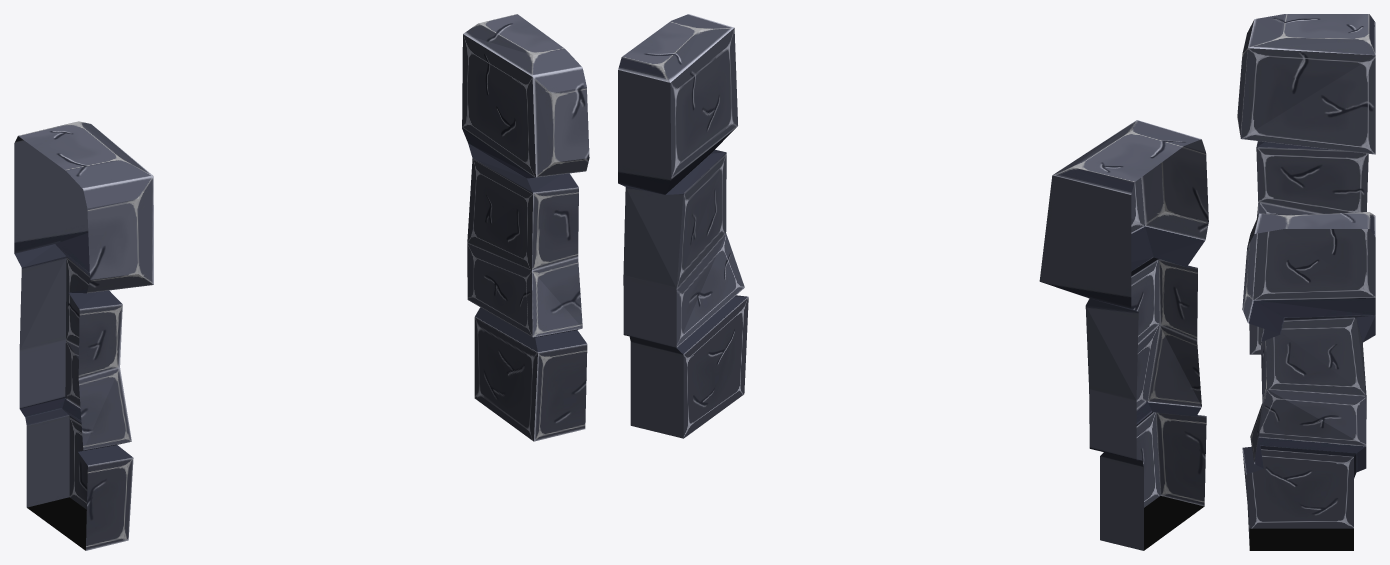
File: Doorway Pillars.FBX
The picture shows the model from 3 angles, left to right: view 1: azimuth 30°, elevation 25°; view 2: azimuth 150°, elevation 25°; view 3: azimuth 270°, elevation 25°; orthographic projection. The views are drawn at different scales.
Parts seen in each view (by area): view 1: Box039; view 2: Box039; view 3: Box039.
Part boxes in pixels (x1,y1,x2,y2): Box039: [14, 14, 589, 550]; Box039: [618, 14, 1208, 550]; Box039: [1237, 14, 1375, 550].
Size of the model in its own units: 452 by 316 by 123.
